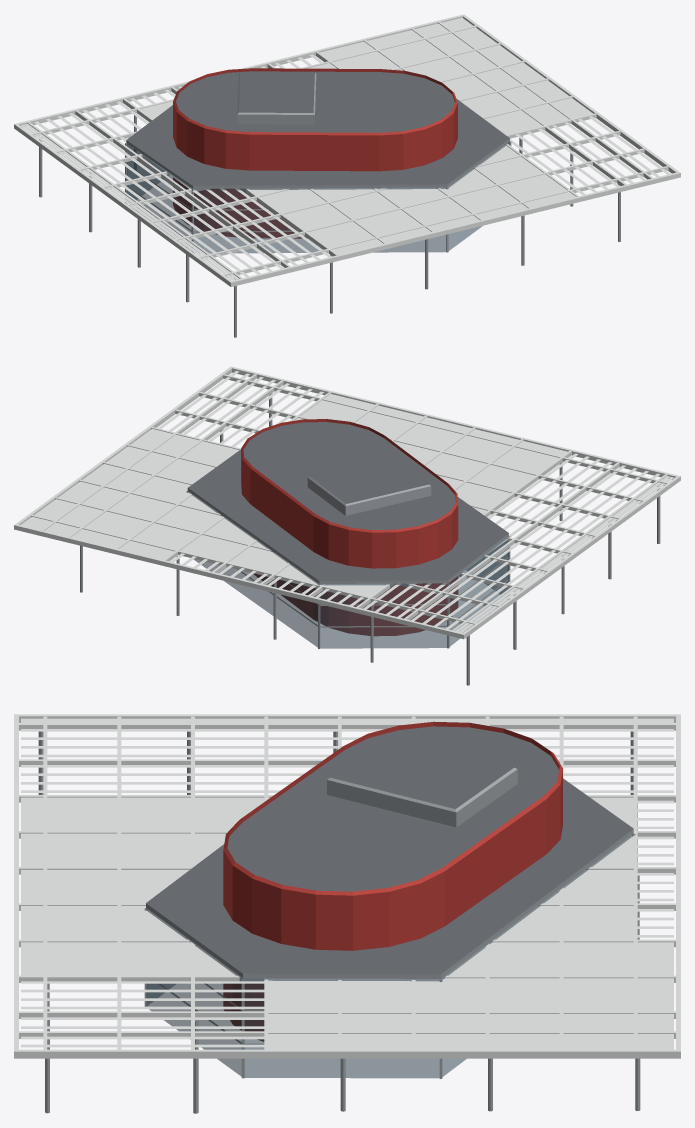
File: dal-winspear-opera-house.glb
3 views of the same model, one above another, from view 1: azimuth 30°, elevation 25°; view 2: azimuth 150°, elevation 25°; view 3: azimuth 270°, elevation 25° (orthographic). The views are drawn at different scales.
Parts seen in each view (by area): view 1: Winspear Opera House; view 2: Winspear Opera House; view 3: Winspear Opera House.
Boxes of the visible parts, x1,y1,x2,y2 form: Winspear Opera House: (14,14,680,337); Winspear Opera House: (14,366,680,685); Winspear Opera House: (14,714,680,1113).
Size of the model in its own units: 140 by 33.8 by 117.
